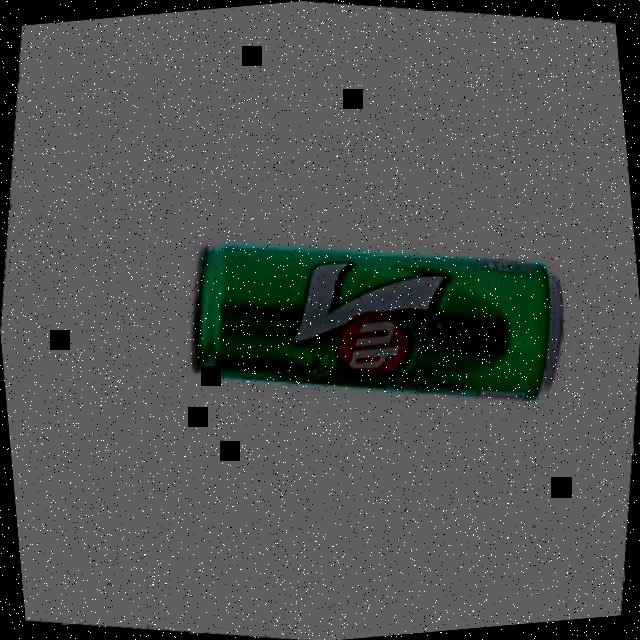can: (172, 208, 578, 439)
